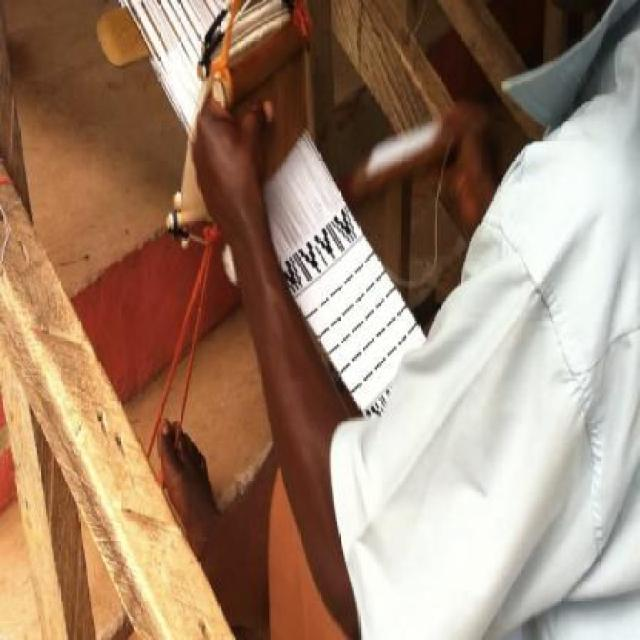Person: (238, 6, 639, 628)
